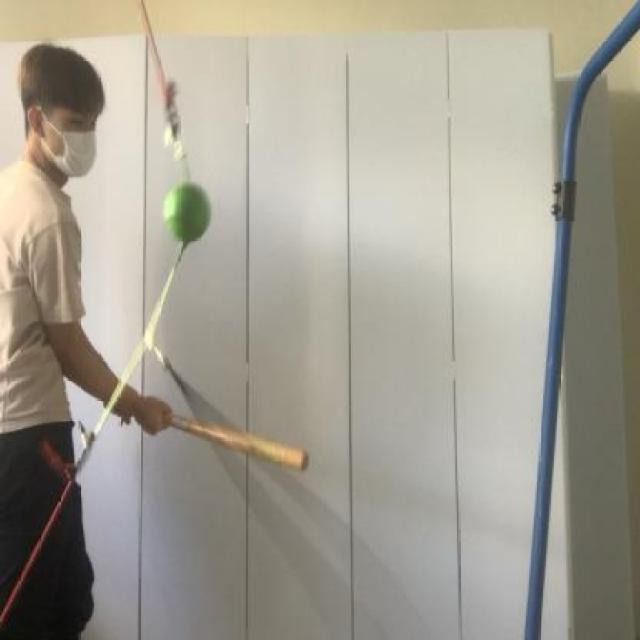baseball: (160, 171, 214, 251)
